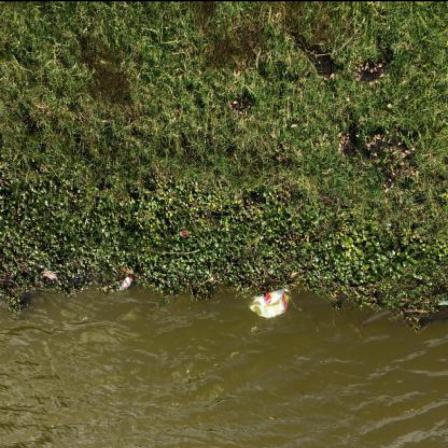Bottle: (119, 276, 135, 290)
Bottle cap: (131, 277, 135, 281)
Plastic bag - wrapper: (250, 288, 290, 318)
Unlabeled litter: (439, 297, 448, 305)
